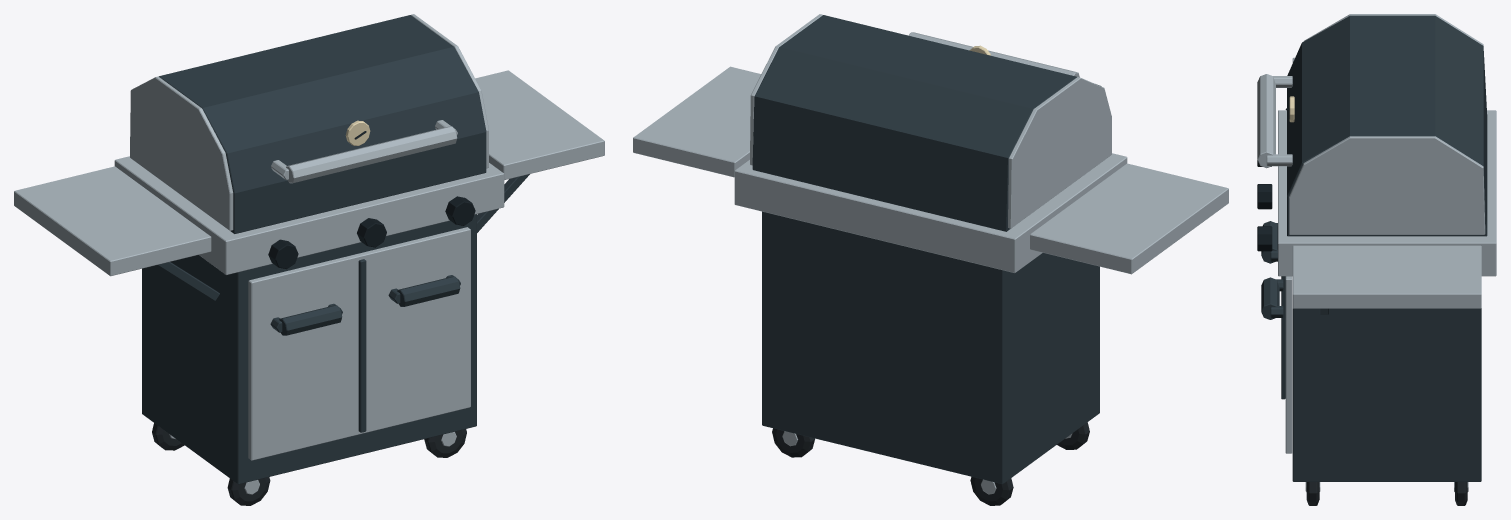
The model's file is b11_three_burner_gas_grill_cart.glb.
3 renders of one model, left to right at view 1: azimuth 30°, elevation 25°; view 2: azimuth 150°, elevation 25°; view 3: azimuth 270°, elevation 25°, orthographic. The views are drawn at different scales.
Parts seen in each view (by area): view 1: b11_three_burner_gas_grill_cart; view 2: b11_three_burner_gas_grill_cart; view 3: b11_three_burner_gas_grill_cart.
Boxes of the visible parts, x1,y1,x2,y2 form: b11_three_burner_gas_grill_cart: [14, 14, 604, 505]; b11_three_burner_gas_grill_cart: [633, 14, 1228, 505]; b11_three_burner_gas_grill_cart: [1257, 14, 1496, 505].
Bounding box in the file's own units: 1.51 × 1.13 × 0.645.
